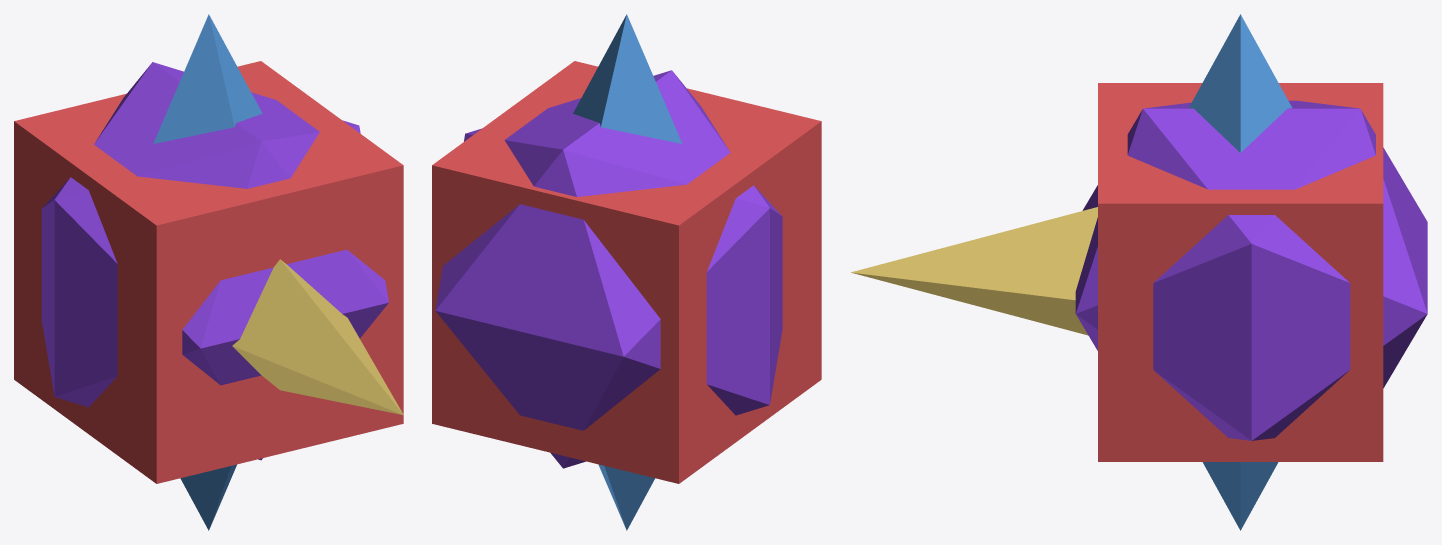
The model's file is Enemies.fbx.
3 renders of one model, left to right at view 1: azimuth 30°, elevation 25°; view 2: azimuth 150°, elevation 25°; view 3: azimuth 270°, elevation 25°, orthographic.
Visible parts, largest first — view 1: TankEnemy, FlyingFastEnemy, FastEnemy, FlyingEnemy; view 2: TankEnemy, FlyingFastEnemy, FlyingEnemy; view 3: FlyingFastEnemy, TankEnemy, FastEnemy, FlyingEnemy.
Part boxes in pixels (x1=…): TankEnemy: x1=14, y1=61, x2=403, y2=483; FlyingFastEnemy: x1=41, y1=62, x2=388, y2=460; FastEnemy: x1=232, y1=259, x2=403, y2=415; FlyingEnemy: x1=153, y1=14, x2=262, y2=530; TankEnemy: x1=432, y1=61, x2=821, y2=483; FlyingFastEnemy: x1=435, y1=70, x2=782, y2=468; FlyingEnemy: x1=573, y1=14, x2=682, y2=530; FlyingFastEnemy: x1=1075, y1=100, x2=1427, y2=440; TankEnemy: x1=1098, y1=83, x2=1383, y2=461; FastEnemy: x1=850, y1=207, x2=1097, y2=335; FlyingEnemy: x1=1189, y1=14, x2=1292, y2=530.
Size of the model in its own units: 55.52 by 90 by 91.1.
